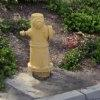a fire hydrant: (20, 10, 58, 76)
